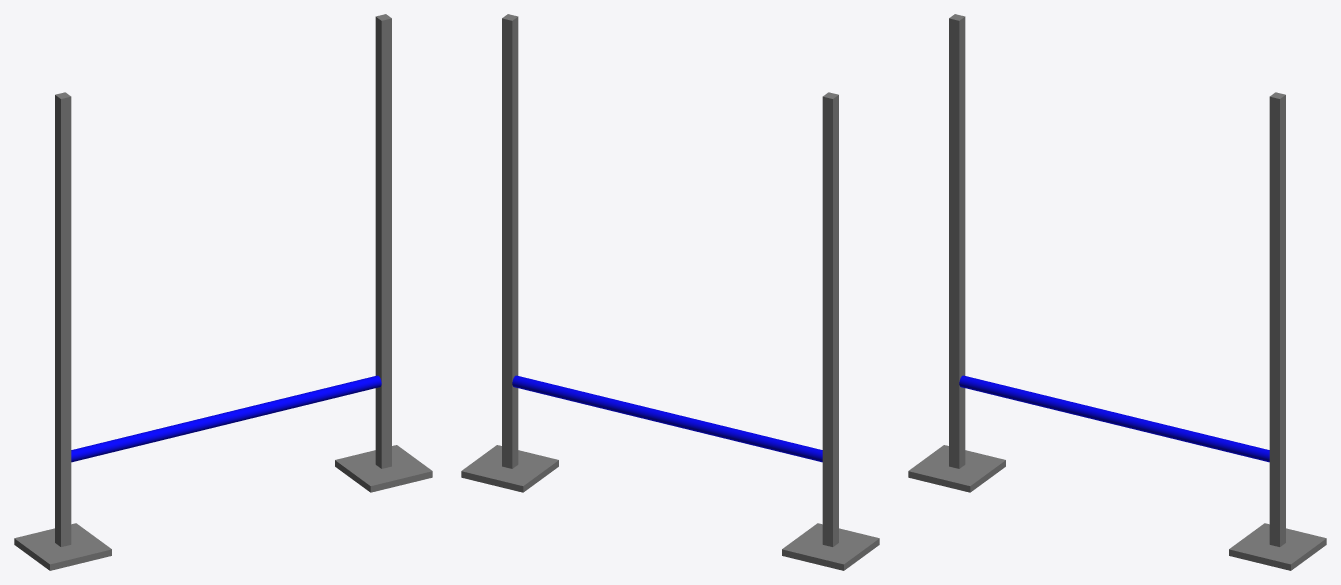
The model's file is M1-Bar_blue_400mm.dae.
3 renders of one model, left to right at view 1: azimuth 30°, elevation 25°; view 2: azimuth 150°, elevation 25°; view 3: azimuth 330°, elevation 25°, orthographic.
Visible parts, largest first — view 1: ID2; view 2: ID2; view 3: ID2.
Part boxes in pixels (x1,y1,x2,y2): ID2: [14, 14, 432, 570]; ID2: [461, 14, 879, 570]; ID2: [908, 14, 1326, 570].
Bounding box in the file's own units: 1.85 × 0.3 × 2.1.
